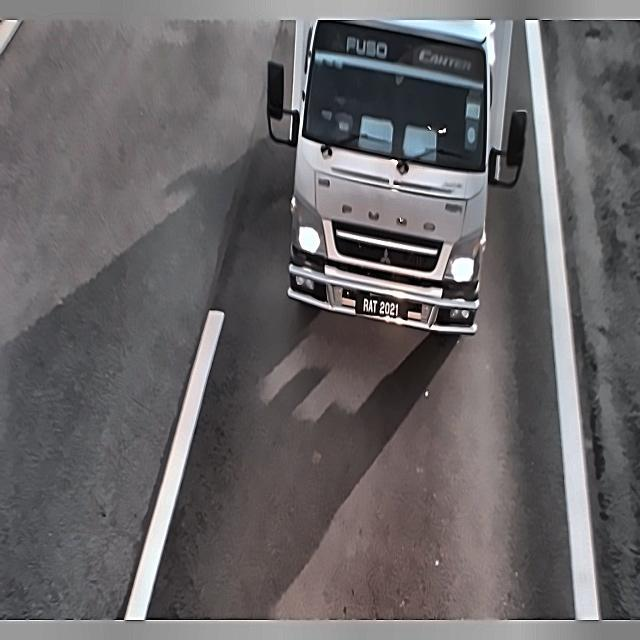car: (351, 277, 408, 331)
